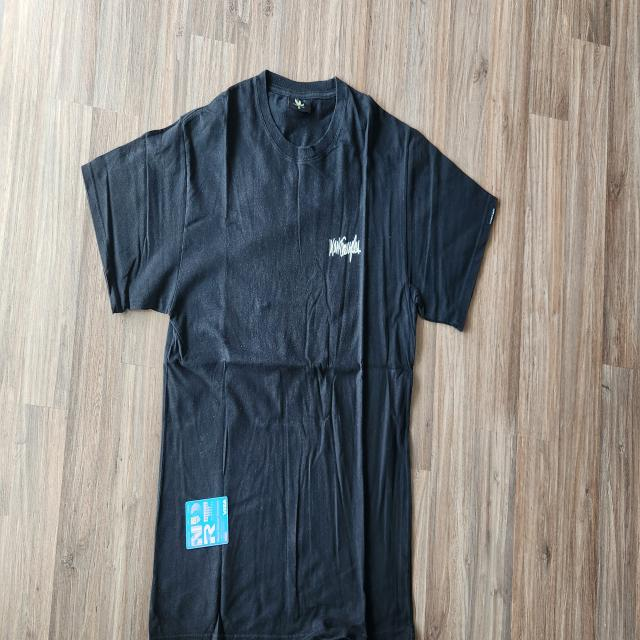card: (186, 496, 228, 550)
